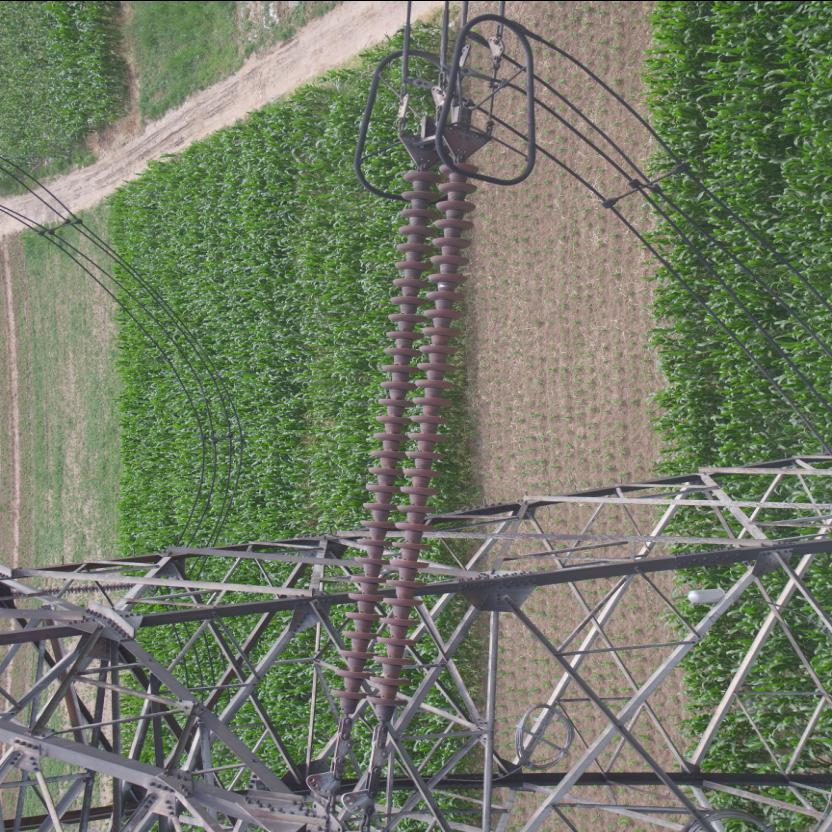insulator: (324, 143, 484, 757)
